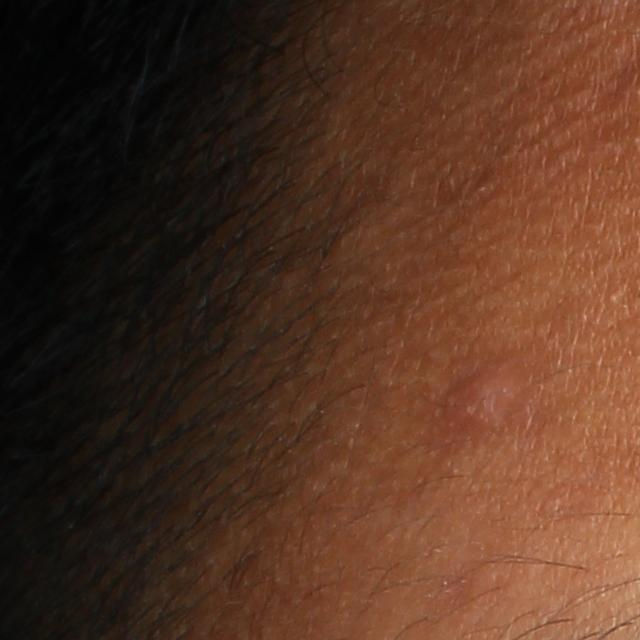hypertrophic_scar: (439, 367, 531, 446)
